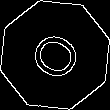O_SE: (22, 24, 88, 86)
